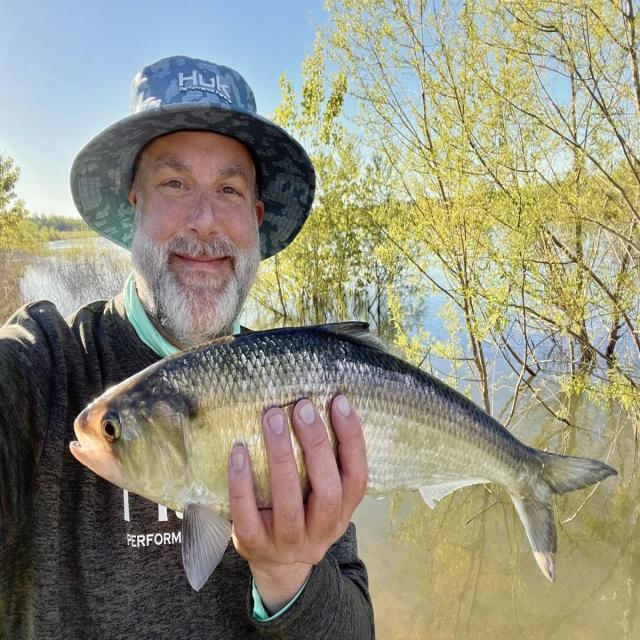Shad - American: (70, 322, 616, 590)
